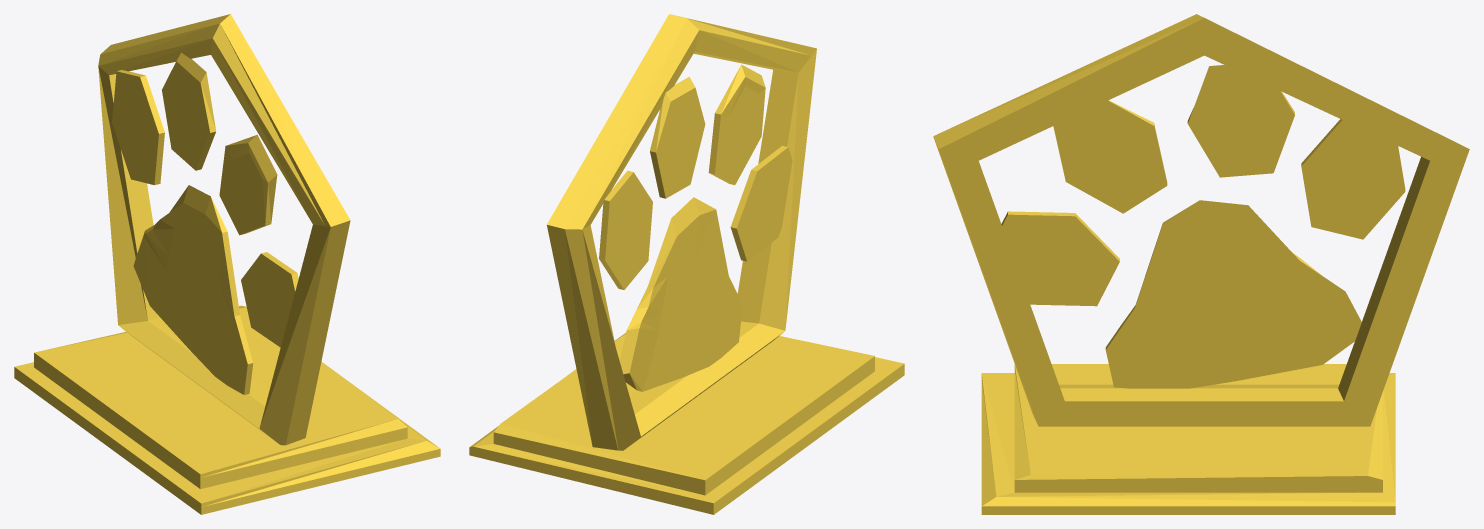
Rendered from goldPaw.FBX.
3 views of the same model, side by side, from view 1: azimuth 30°, elevation 25°; view 2: azimuth 150°, elevation 25°; view 3: azimuth 270°, elevation 25° (orthographic). The views are drawn at different scales.
Visible parts, largest first — view 1: Box233; view 2: Box233; view 3: Box233.
Boxes of the visible parts, left/top/right/bottom form: Box233: left=14, top=14, right=440, bottom=514; Box233: left=469, top=14, right=904, bottom=514; Box233: left=933, top=14, right=1469, bottom=514.
Bounding box in the file's own units: 7.97 × 12.58 × 13.97.
